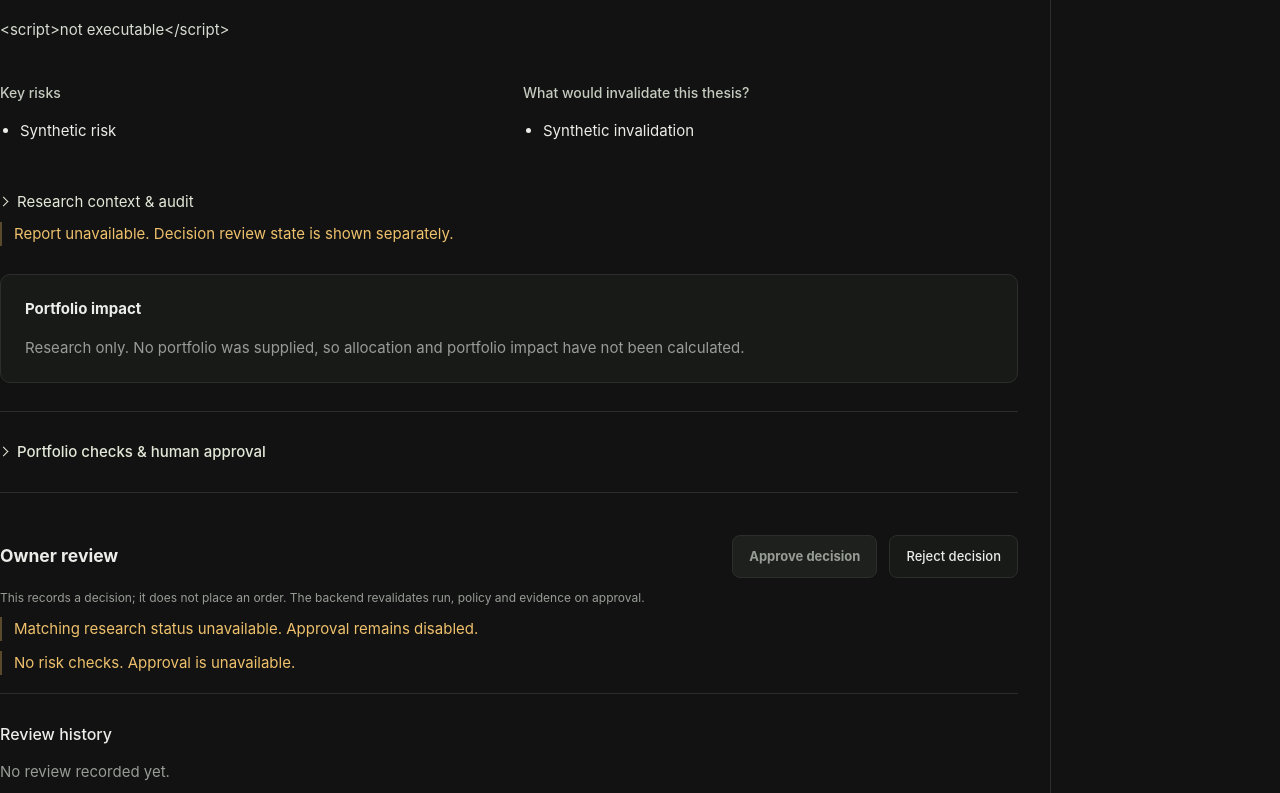
Scenario: requires a reason and persists rejection with exact prior state
(page scrolled)
Click the button "Reject decision". click: [954, 556]
box: [889,535,1018,578]
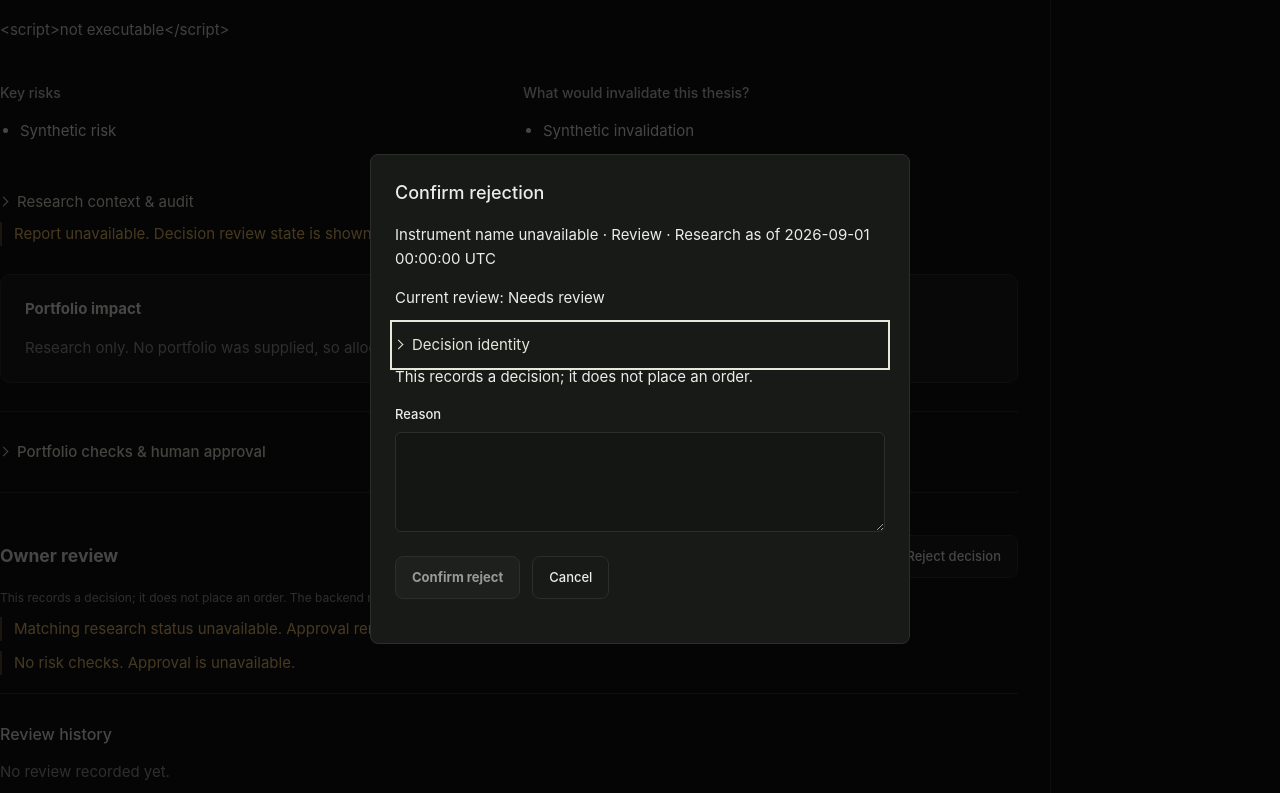
Expected: the button "Confirm reject" is disabled, [395,556,520,599]
Type "Insufficient evidence" into the text box labelled "Reason". click: [640, 482]
box: [395,432,885,532]
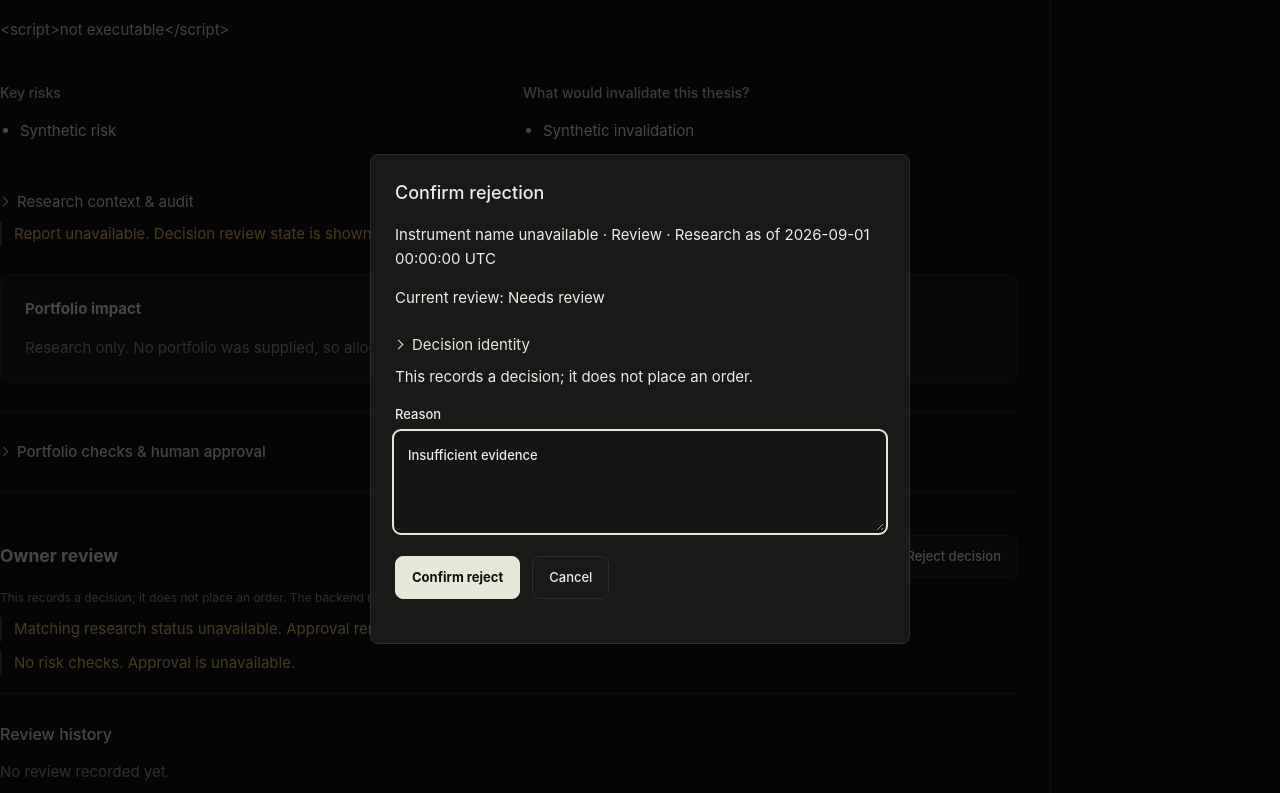
Click the button "Confirm reject". click: [458, 578]
box: [395,556,520,599]
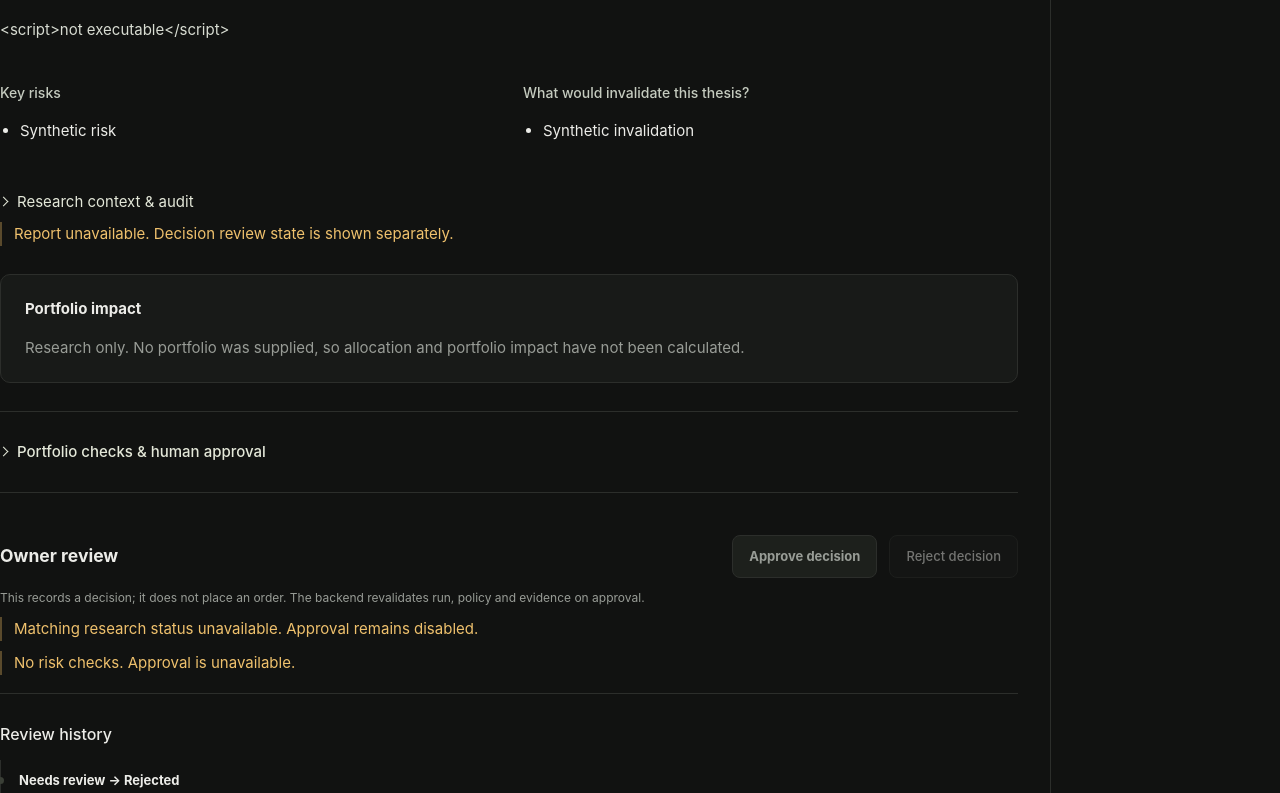
Expected: the dialog is gone
Expected: the text "Needs review → Rejected" is shown, [19,772,180,788]
